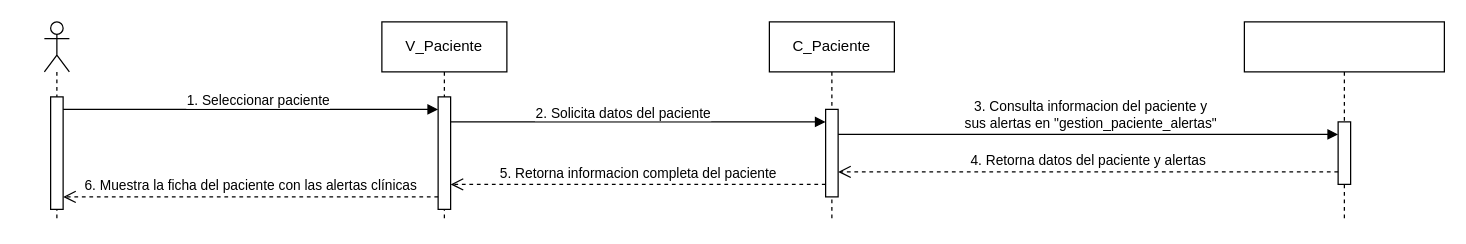
Some shapes in this 1466 by 244 pixel diagram are drawn without their labels. The shapes that lost their labels are listed below. From the top down, each one's centre as x and y in pixels, then its label:
[56,121]: Veterinario
[1343,121]: Gestion_pacientes_alertas
